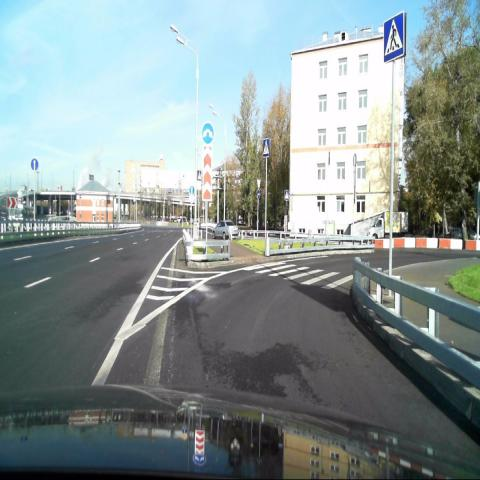4_2_3: (200, 122, 214, 145)
